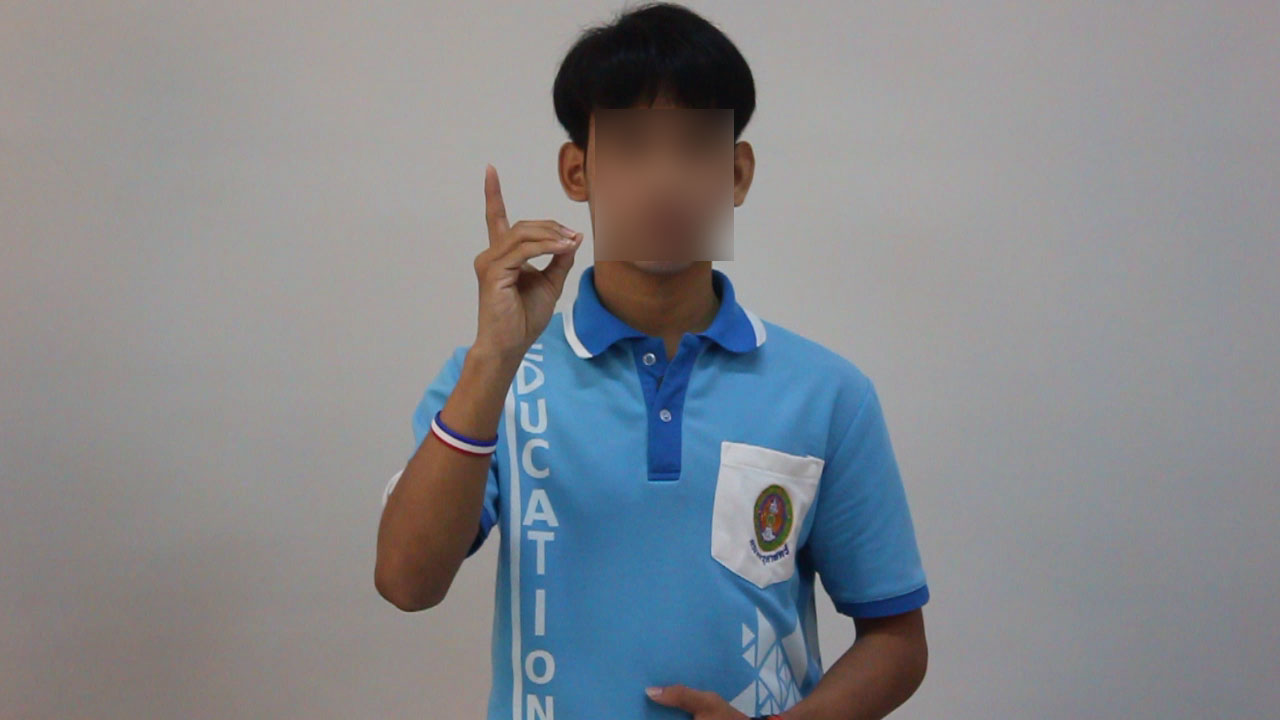dor: (468, 157, 592, 353)
